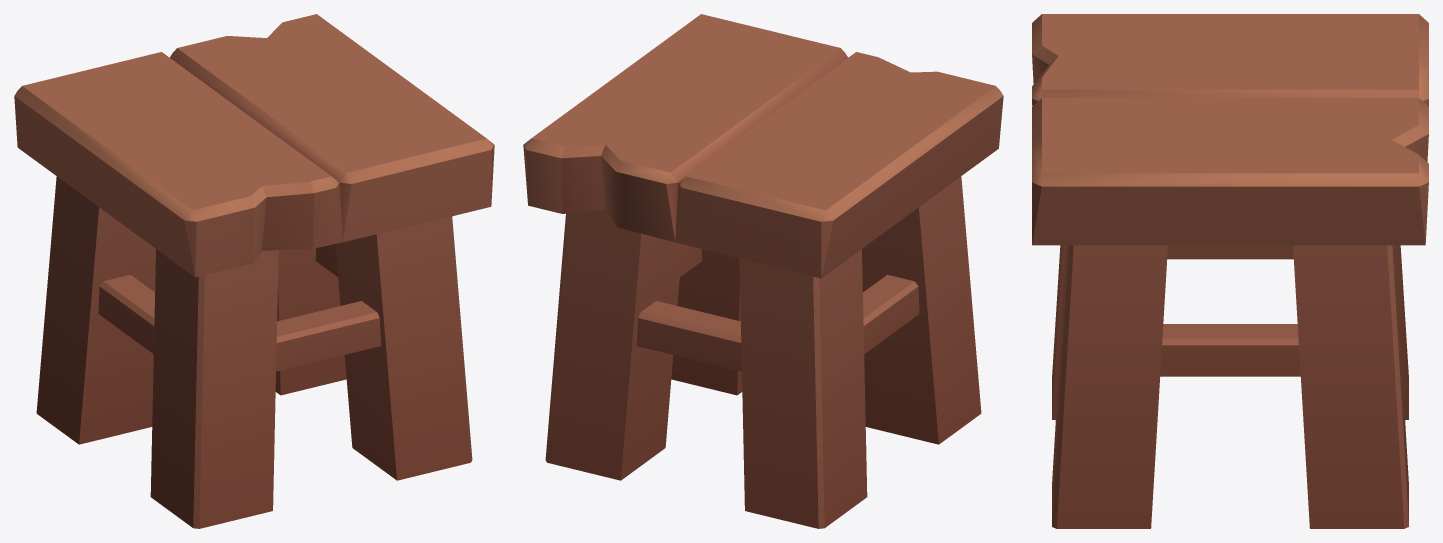
File: table_small.gltf
3 views of the same model, side by side, from view 1: azimuth 30°, elevation 25°; view 2: azimuth 150°, elevation 25°; view 3: azimuth 270°, elevation 25° (orthographic). The views are drawn at different scales.
Visible parts, largest first — view 1: table_small; view 2: table_small; view 3: table_small.
Boxes of the visible parts, x1,y1,x2,y2 form: table_small: (14,14,494,528); table_small: (523,14,1003,528); table_small: (1032,14,1428,528).
Bounding box in the file's own units: 1 × 1 × 1.
Materials: 1 (1 with a texture image).
